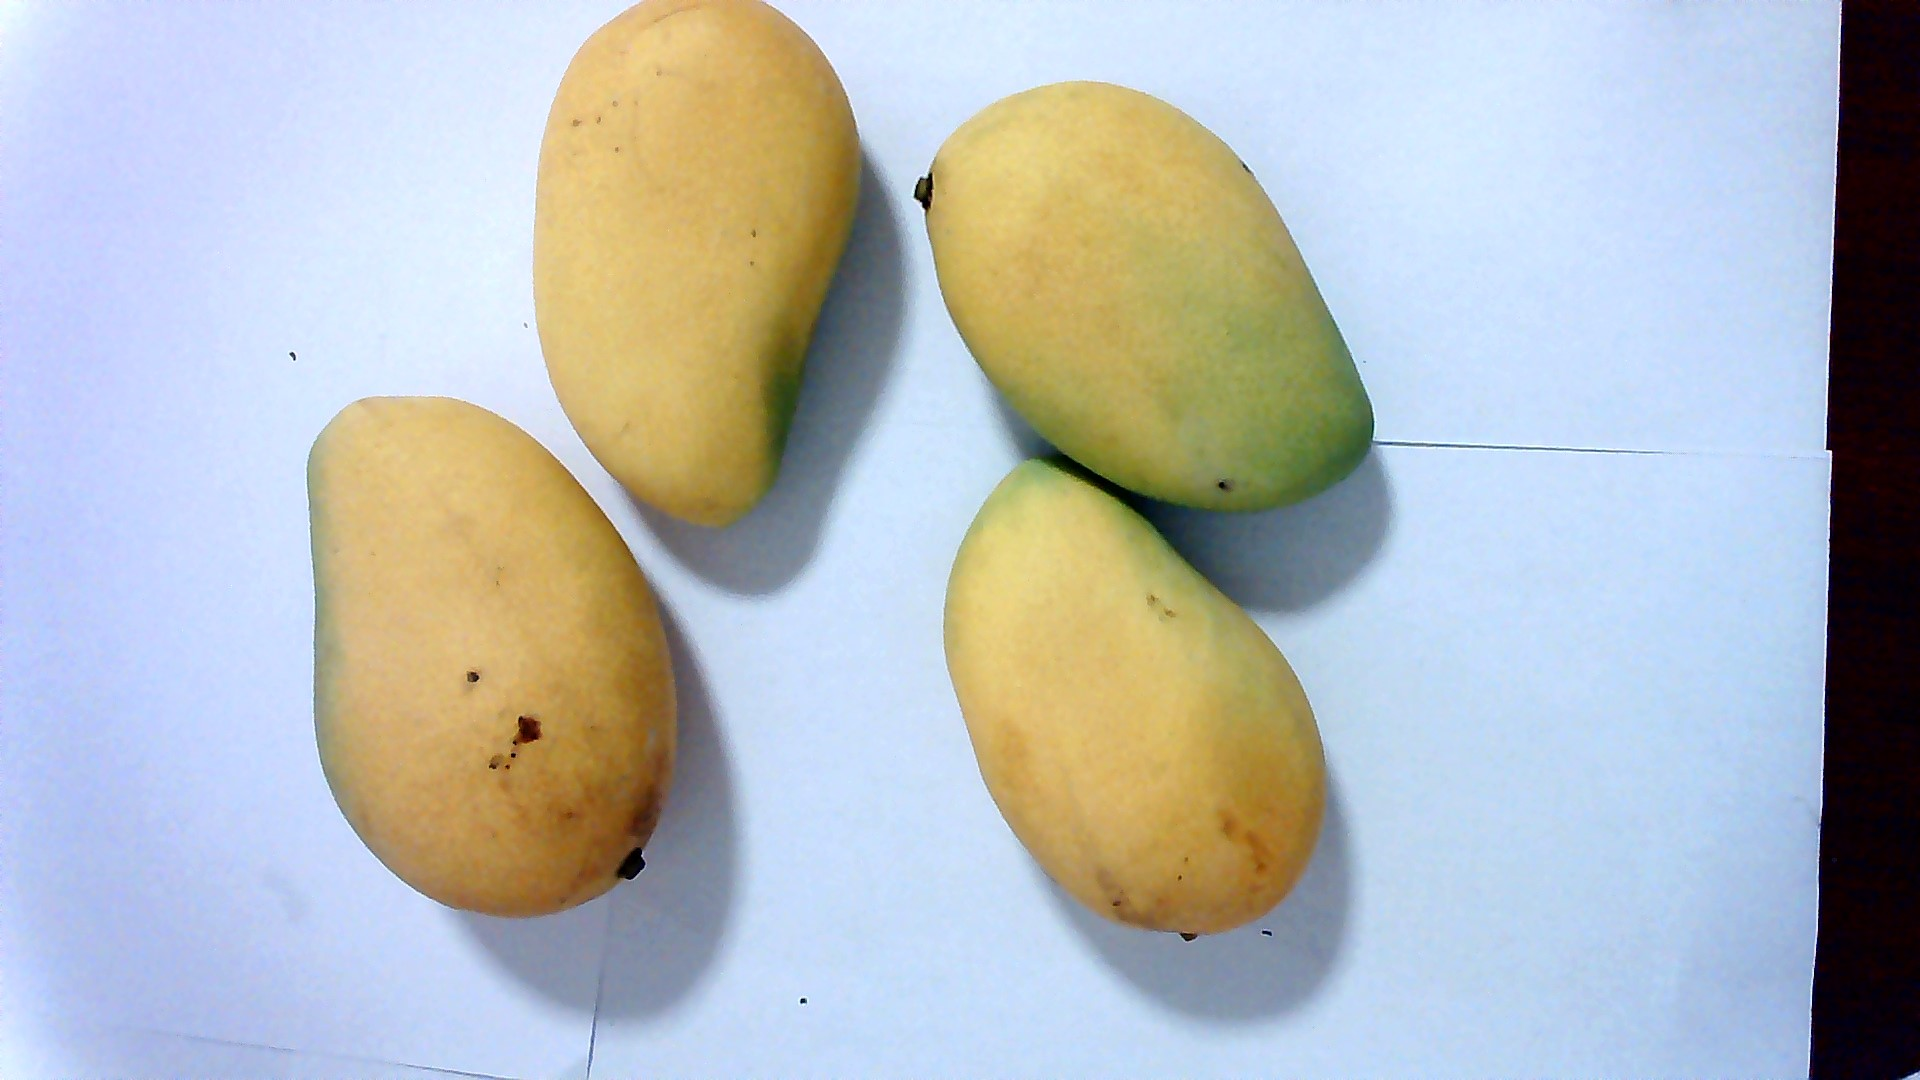mongo: (294, 411, 687, 909), (928, 95, 1382, 518), (949, 491, 1346, 951), (535, 1, 825, 558)
